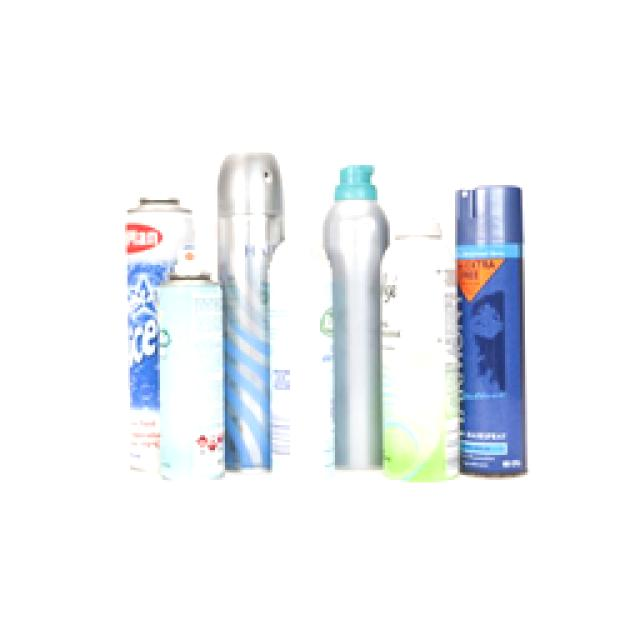B3: (380, 202, 460, 484), (217, 153, 282, 467), (323, 165, 388, 469), (455, 188, 524, 474), (126, 200, 190, 468), (268, 240, 332, 478), (168, 255, 234, 476)
